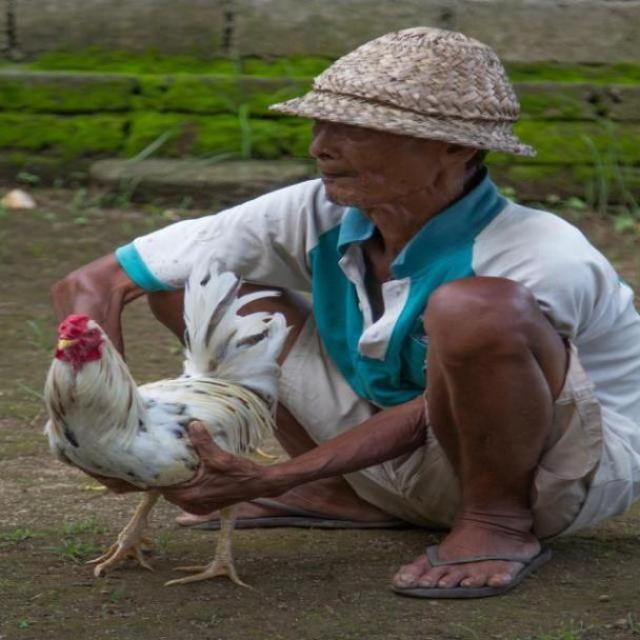Chicken: (49, 298, 344, 604)
